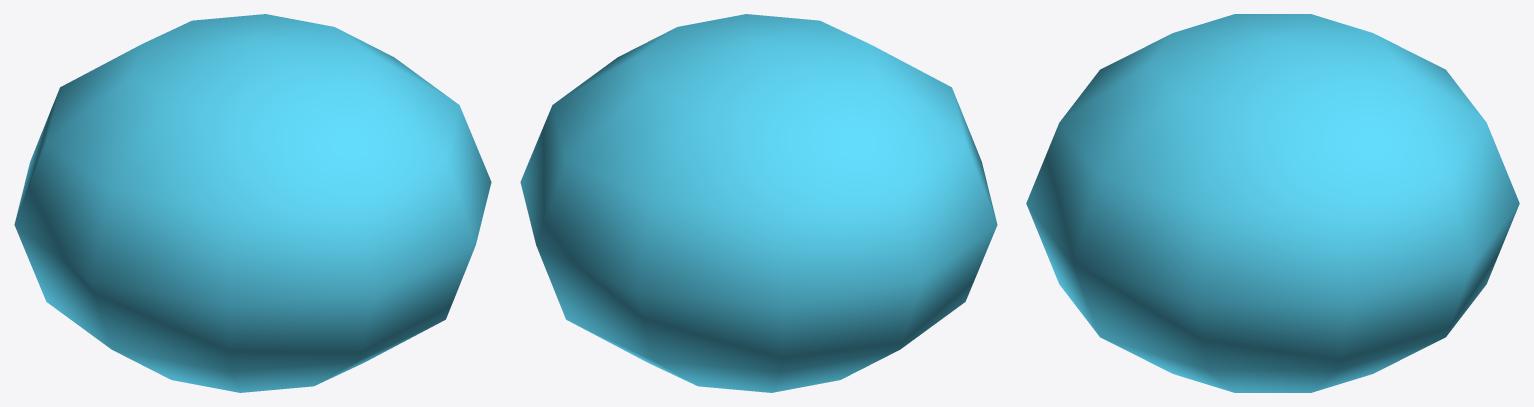
The model's file is mancala_gem.glb.
The picture shows the model from 3 angles, left to right: view 1: azimuth 30°, elevation 25°; view 2: azimuth 150°, elevation 25°; view 3: azimuth 270°, elevation 25°; orthographic projection.
Parts seen in each view (by area): view 1: Gem; view 2: Gem; view 3: Gem.
Boxes of the visible parts, <box> form: Gem: <box>14,14,491,392</box>; Gem: <box>520,14,997,392</box>; Gem: <box>1026,14,1519,392</box>.
Size of the model in its own units: 0.3424 by 0.26 by 0.36.
